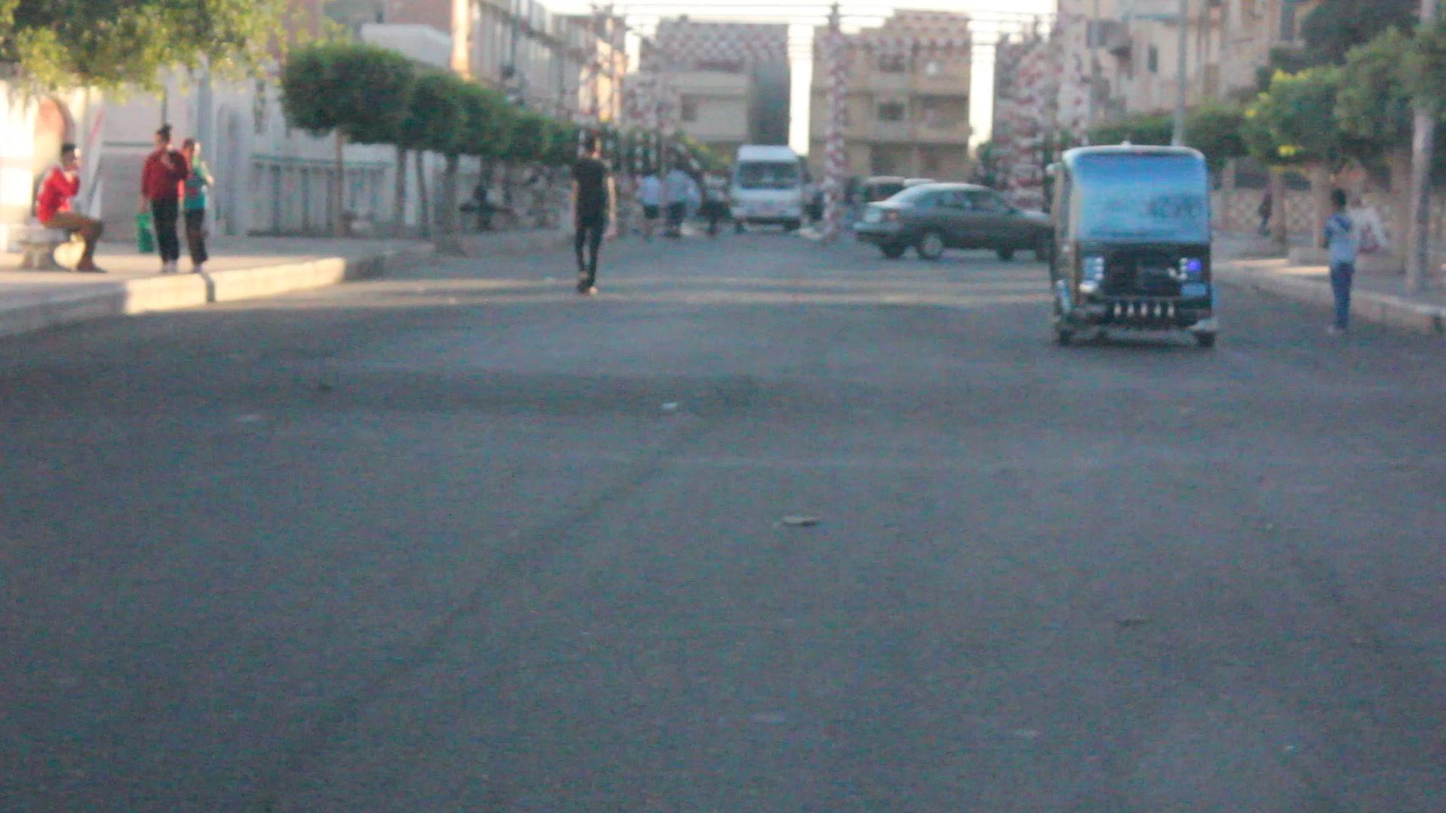Bump: (9, 354, 1446, 467)
